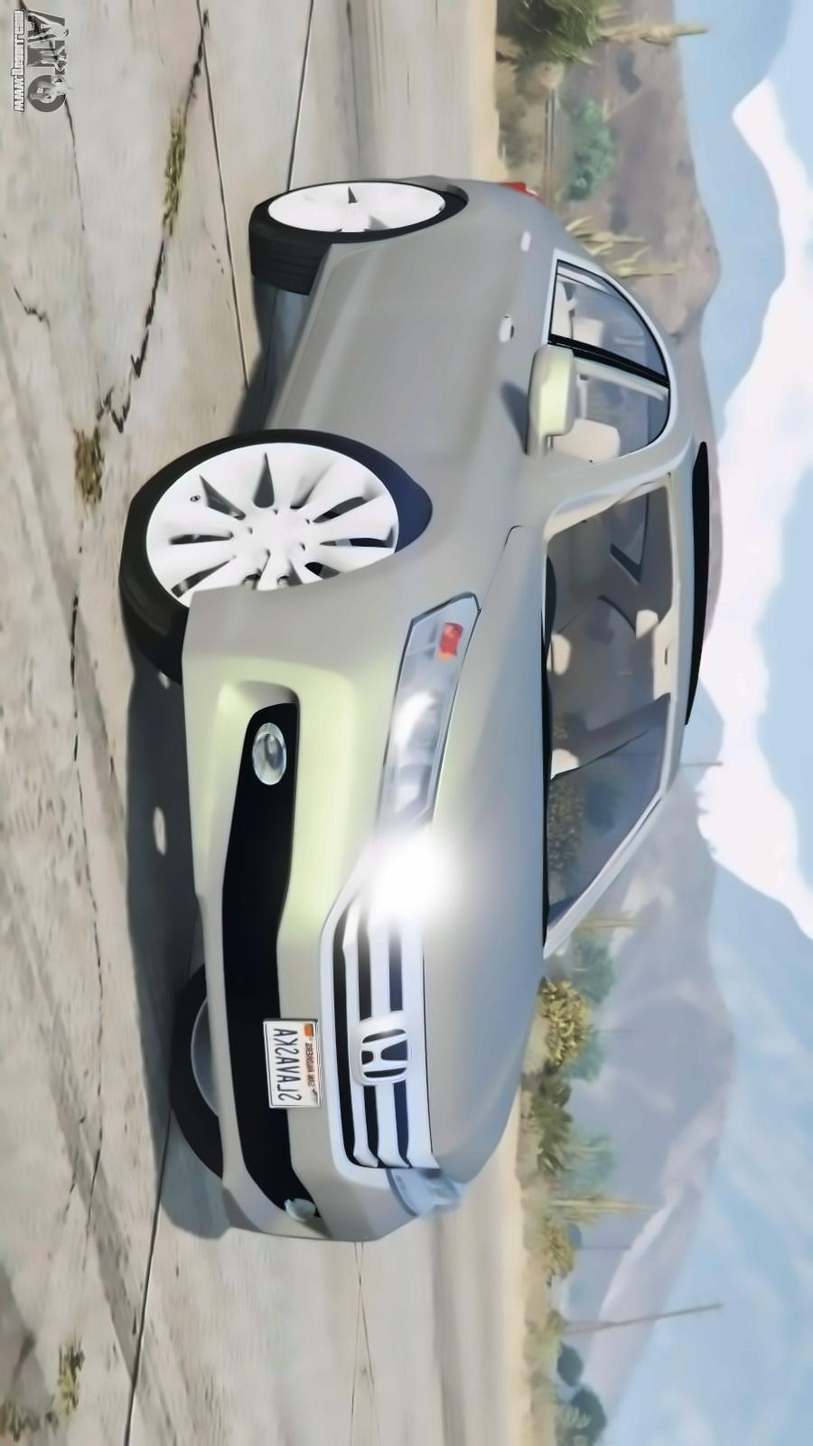Car hood: (414, 518, 553, 1193)
Driver-s door - -F-R-: (294, 314, 689, 448)
Fender - -F-R-: (361, 453, 592, 613)
Fender - -R-R-: (335, 194, 568, 250)
Front bumper: (167, 576, 391, 1271)
Headlight - -L-: (371, 1153, 477, 1232)
Headlight - -R-: (366, 579, 490, 855)
Passenger-s door - -R-R-: (337, 224, 664, 336)
Rear bumper: (373, 165, 465, 200)
Rear light - -R-: (479, 165, 557, 210)
Side bumper - -R-: (260, 228, 375, 448)
Side mirror - -R-: (517, 339, 588, 461)
